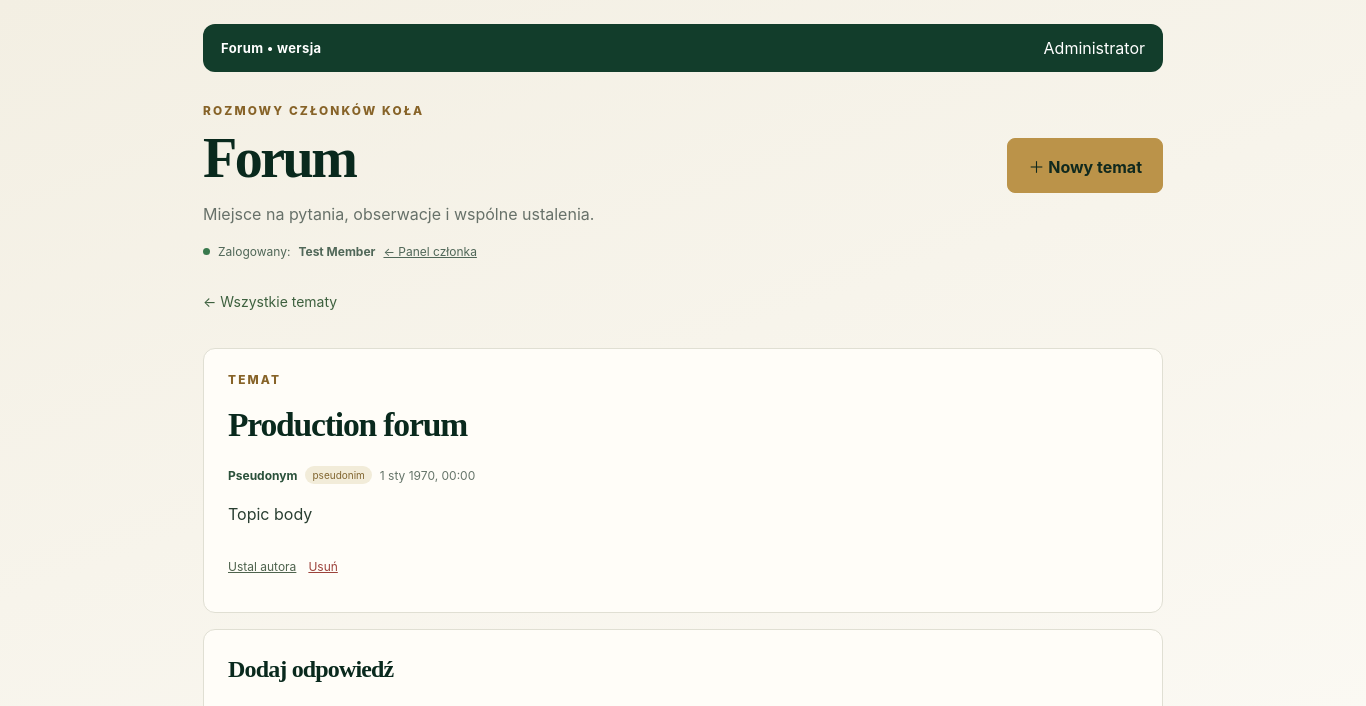
Scenario: reads identity only when an administrator requests it
The image size is (1366, 706).
Step 1. Click the button "Ustal autora" → x=262, y=566, box [228, 544, 296, 588]
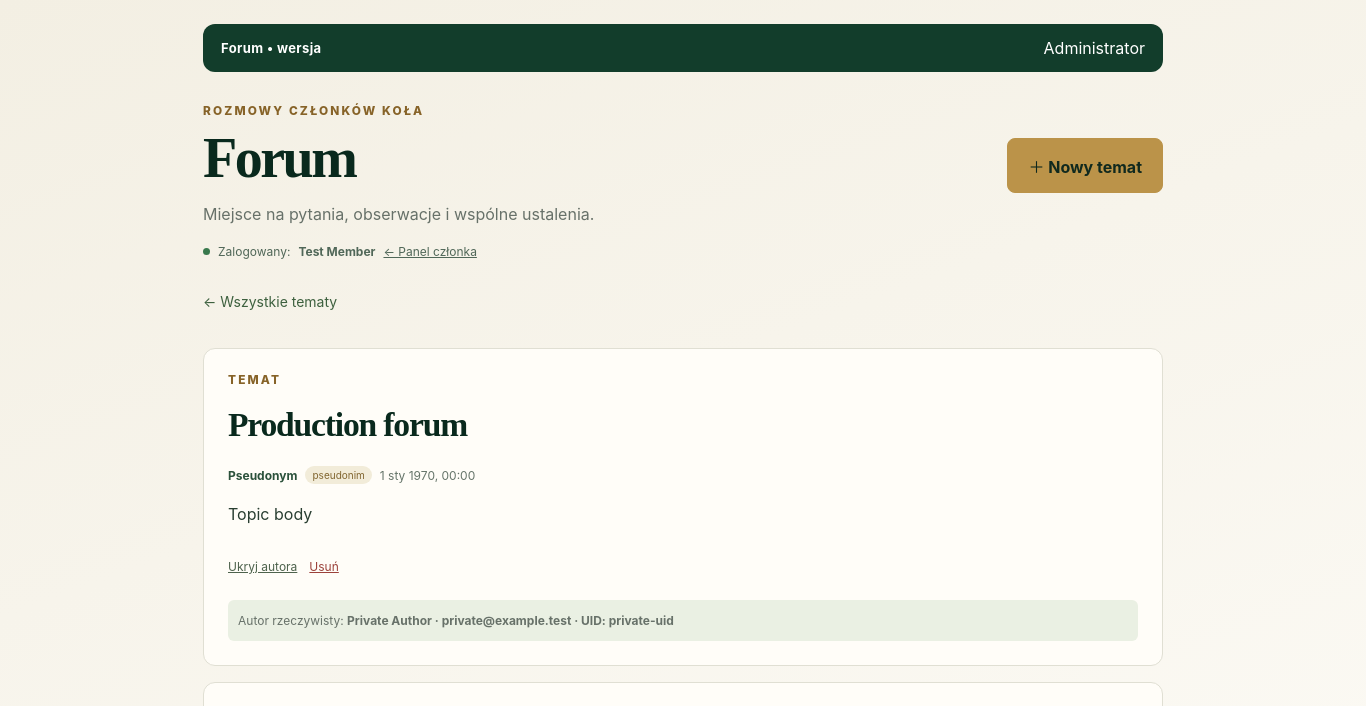
expect the text "Private Author · private@example.test · UID: private-uid" is shown: met, box [347, 613, 674, 628]
